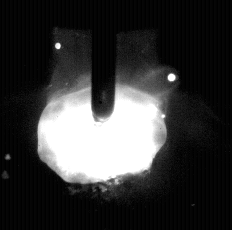arame: (91, 0, 117, 122)
poca: (37, 0, 168, 230)
